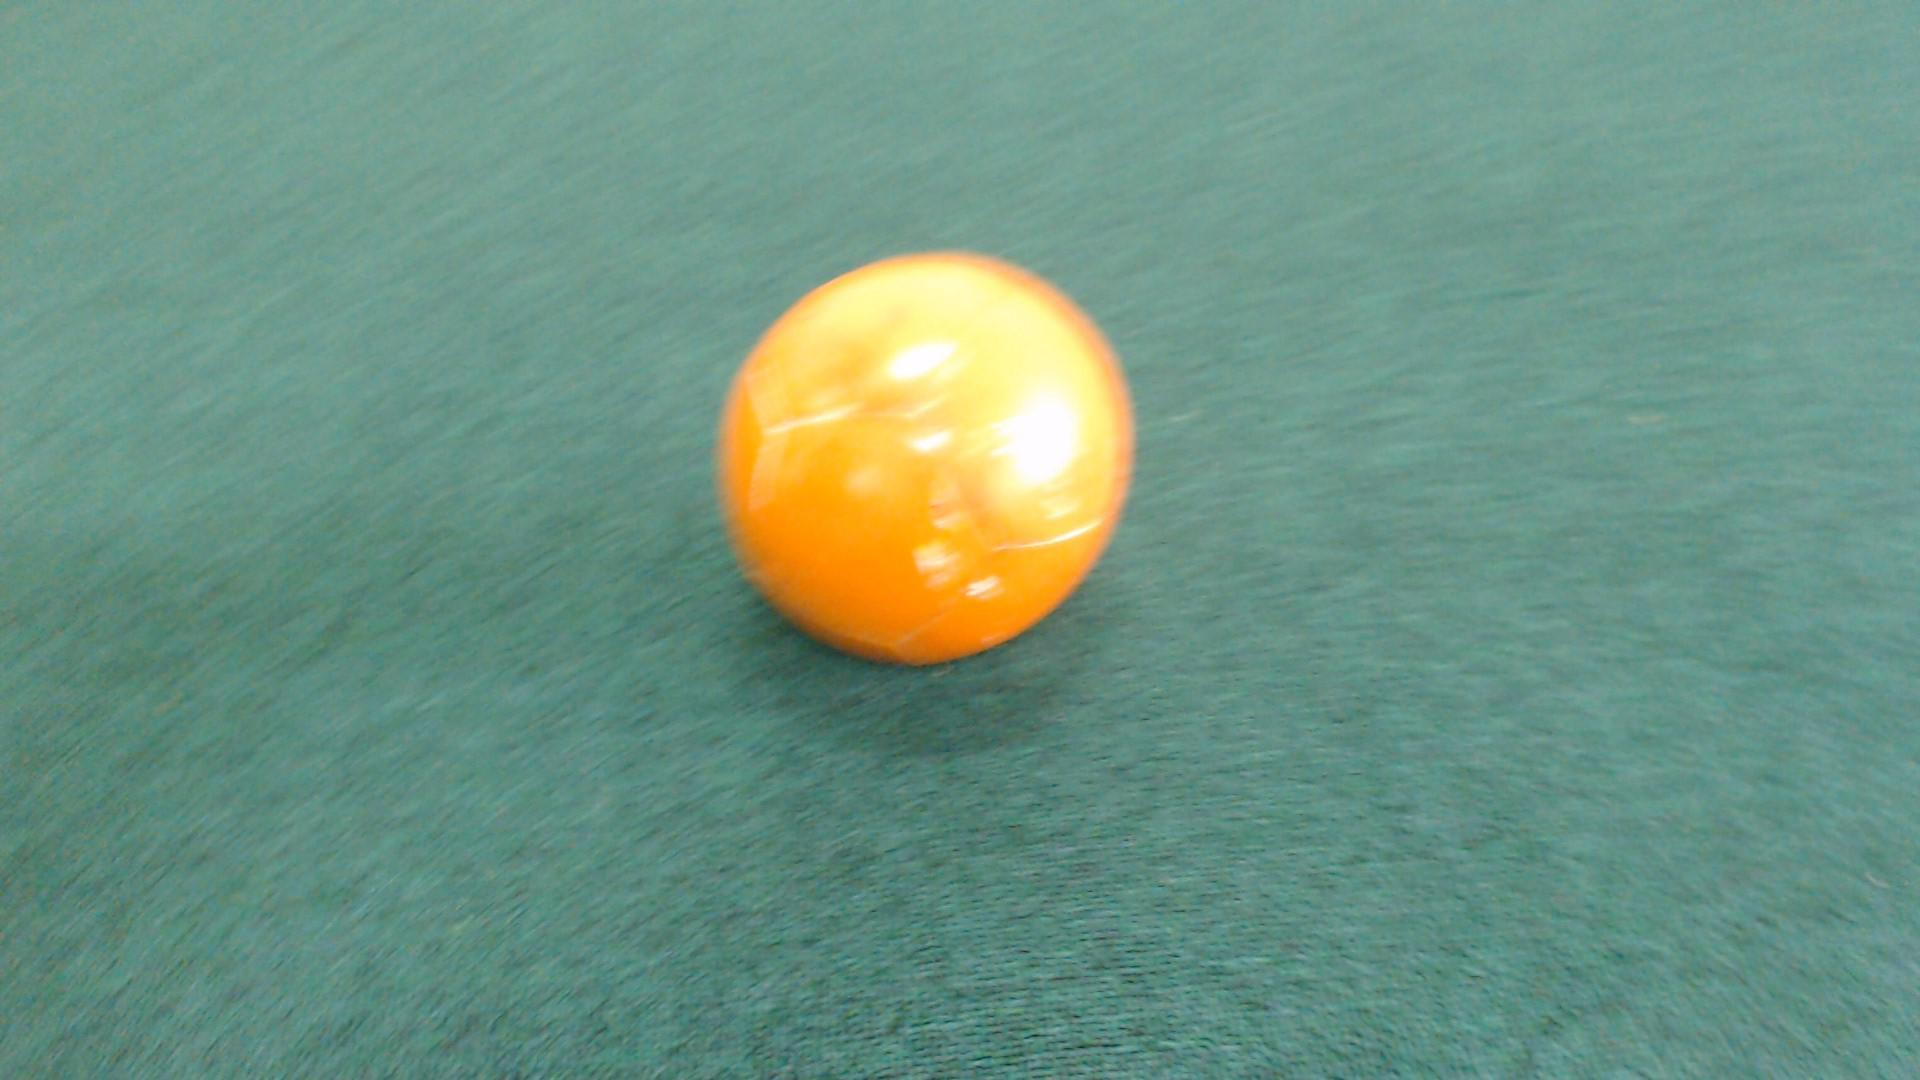bola: (666, 249, 1160, 684)
